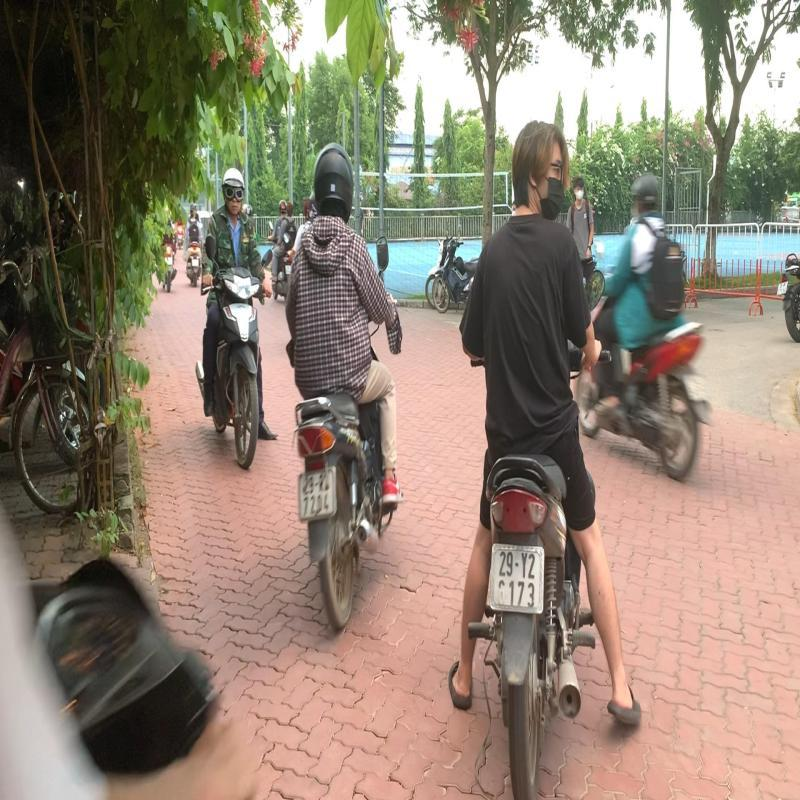nohelmet: (509, 114, 575, 221)
